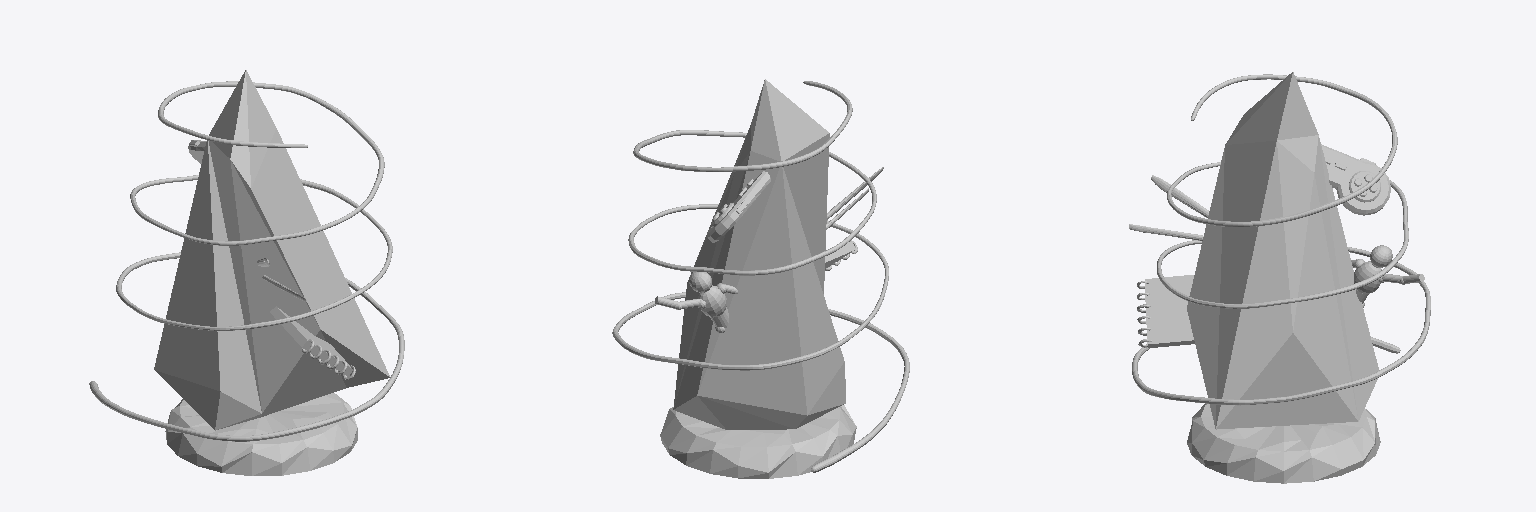
3 views of the same model, side by side, from view 1: azimuth 30°, elevation 25°; view 2: azimuth 150°, elevation 25°; view 3: azimuth 270°, elevation 25° (orthographic).
Visible parts, largest first — view 1: Boucle6:ZBrush_defualt_group3; view 2: Boucle6:ZBrush_defualt_group3; view 3: Boucle6:ZBrush_defualt_group3.
Boxes of the visible parts, x1=… form: Boucle6:ZBrush_defualt_group3: x1=89, y1=70, x2=404, y2=475; Boucle6:ZBrush_defualt_group3: x1=612, y1=79, x2=909, y2=478; Boucle6:ZBrush_defualt_group3: x1=1129, y1=72, x2=1430, y2=483.
Size of the model in its own units: 3.22 by 4.45 by 3.34.